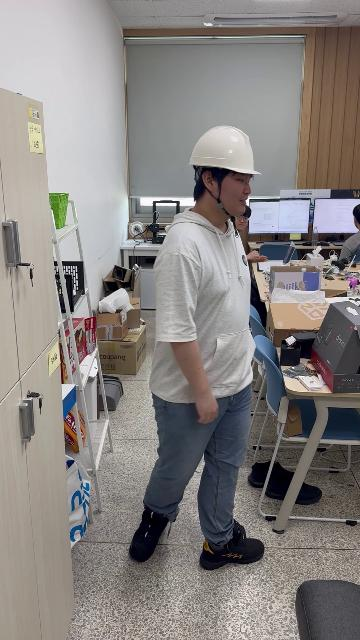helmet_worn: (186, 124, 264, 175)
shoe_not_worn: (249, 461, 320, 503), (247, 459, 278, 488)
shoe_worn: (200, 523, 265, 570), (128, 507, 172, 562)
vest_not_worn: (158, 214, 256, 400)
